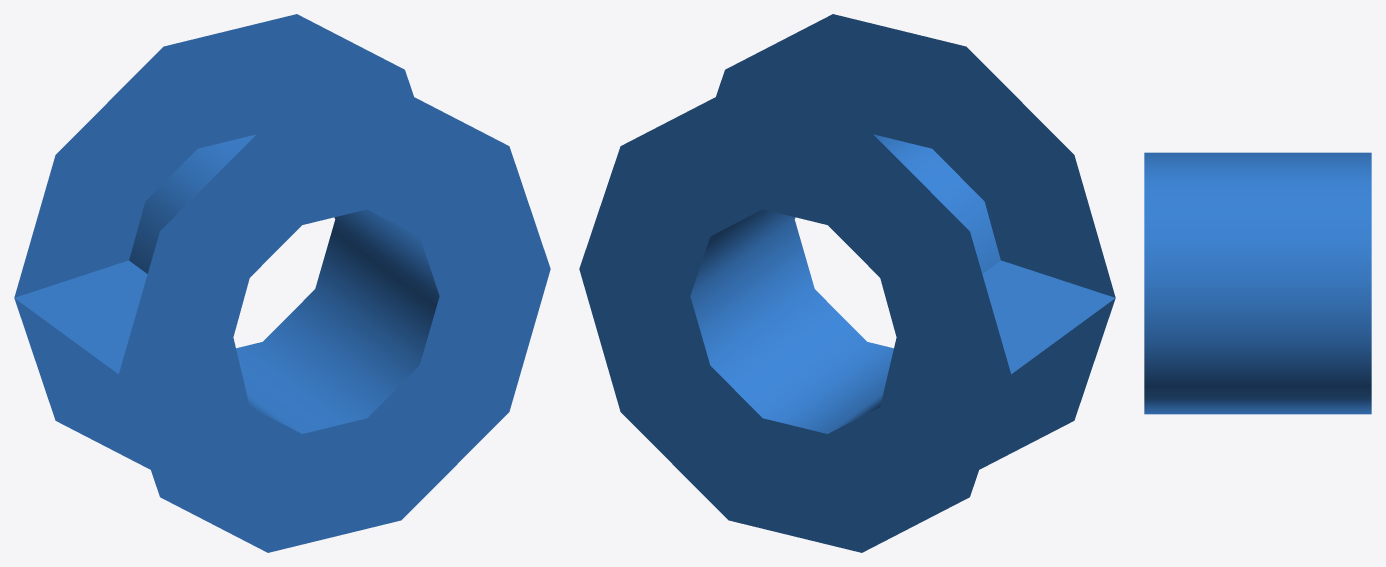
File: Circulo.FBX
The picture shows the model from 3 angles, left to right: view 1: azimuth 30°, elevation 25°; view 2: azimuth 150°, elevation 25°; view 3: azimuth 270°, elevation 25°; orthographic projection. The views are drawn at different scales.
Parts seen in each view (by area): view 1: Object001; view 2: Object001; view 3: Object001.
Part boxes in pixels (x1=…): Object001: x1=14, y1=14, x2=550, y2=552; Object001: x1=579, y1=14, x2=1115, y2=552; Object001: x1=1144, y1=152, x2=1371, y2=414.
Size of the model in its own units: 62.66 by 59.59 by 26.25.
